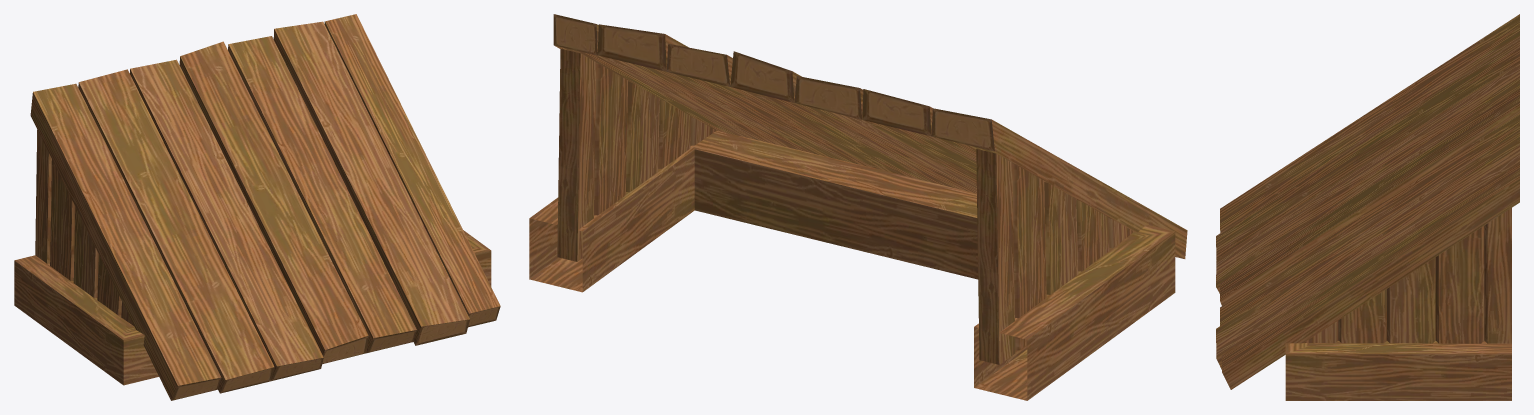
File: roof_wooden_2x1.glb
The picture shows the model from 3 angles, left to right: view 1: azimuth 30°, elevation 25°; view 2: azimuth 150°, elevation 25°; view 3: azimuth 270°, elevation 25°; orthographic projection. The views are drawn at different scales.
Size of the model in its own units: 2.26 by 1.25 by 1.56.
Materials: 1 (1 with a texture image).
